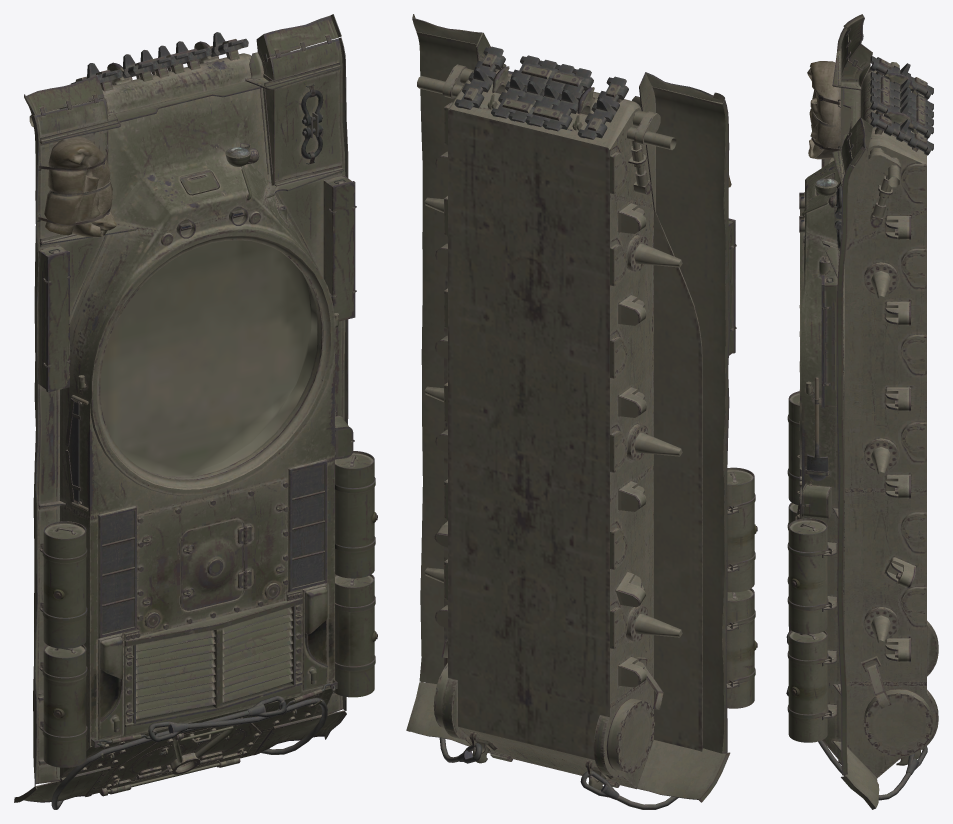
The model's file is Hull.glb.
3 renders of one model, left to right at view 1: azimuth 30°, elevation 25°; view 2: azimuth 150°, elevation 25°; view 3: azimuth 270°, elevation 25°, orthographic. The views are drawn at different scales.
Parts seen in each view (by area): view 1: set_0_group_0; view 2: set_0_group_0; view 3: set_0_group_0.
Part boxes in pixels (<box>): set_0_group_0: <box>14,14,377,809</box>; set_0_group_0: <box>406,14,757,809</box>; set_0_group_0: <box>786,14,938,809</box>.
Size of the model in its own units: 3.17 by 6.83 by 1.4.
Materials: 1 (1 with a texture image).
